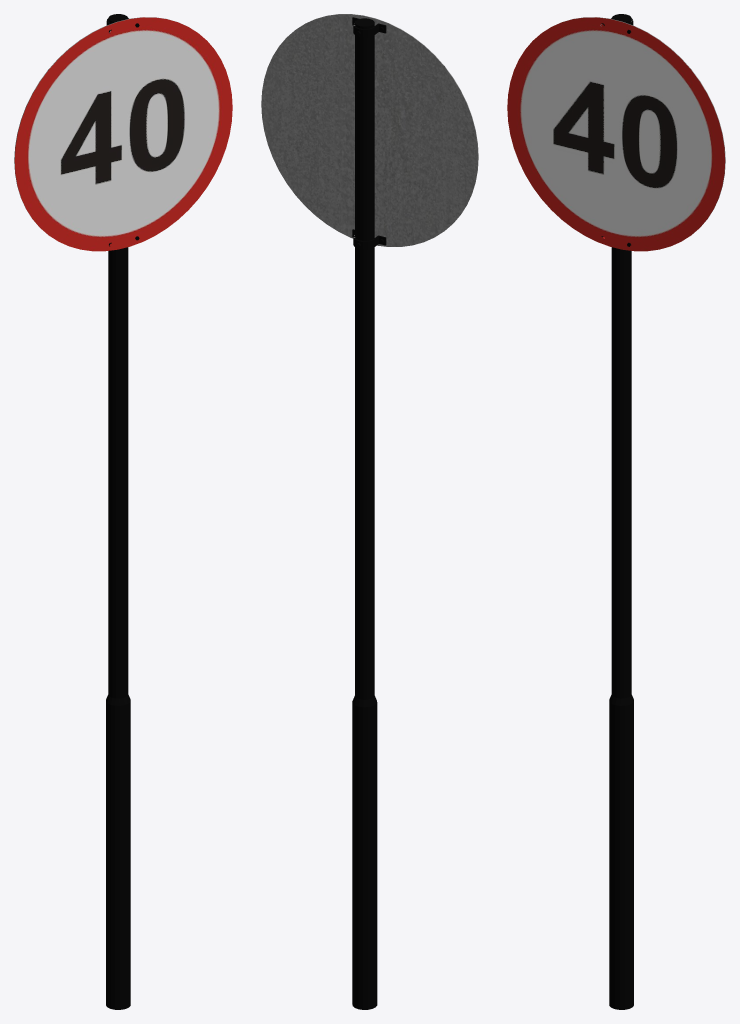
Rendered from sign.glb.
3 renders of one model, left to right at view 1: azimuth 30°, elevation 25°; view 2: azimuth 150°, elevation 25°; view 3: azimuth 330°, elevation 25°, orthographic.
Parts seen in each view (by area): view 1: mast-001; view 2: mast-001; view 3: mast-001.
Boxes of the visible parts, bbox=[...] form: mast-001: bbox=[14, 14, 232, 1009]; mast-001: bbox=[261, 14, 478, 1009]; mast-001: bbox=[507, 14, 725, 1009].
Size of the model in its own units: 0.9173 by 3.97 by 0.0946.
Materials: 2 (1 with a texture image).
